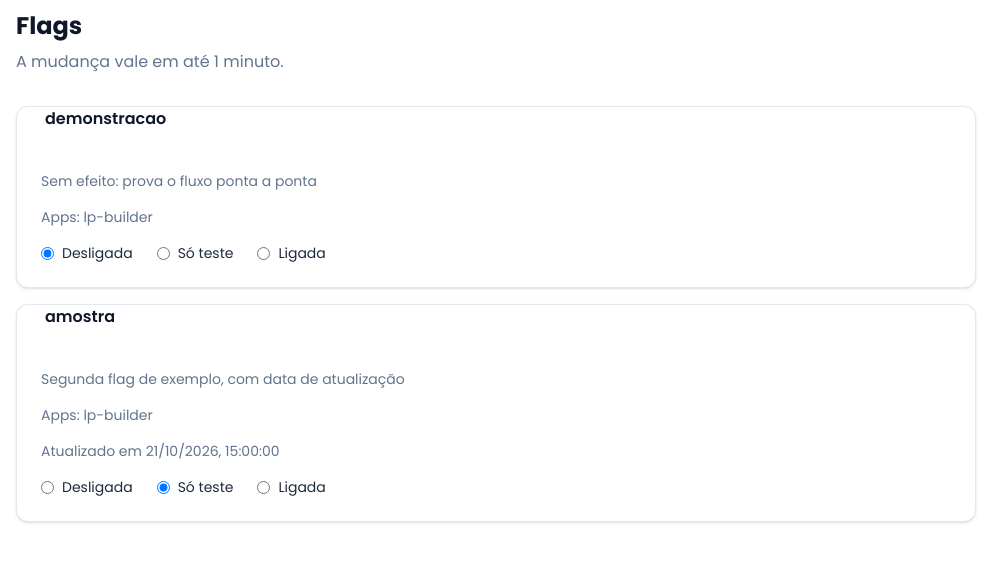
Test case: Página de flags › volta o radio e mostra alerta quando a gravação falha
The image size is (993, 576).
Expected: the element "demonstracao" is shown, left=41, top=107, right=326, bottom=263
Click the radio button labelled "Só teste" below "Sem efeito: prova o fluxo ponta a ponta".
click(163, 253)  # box left=157, top=246, right=170, bottom=260
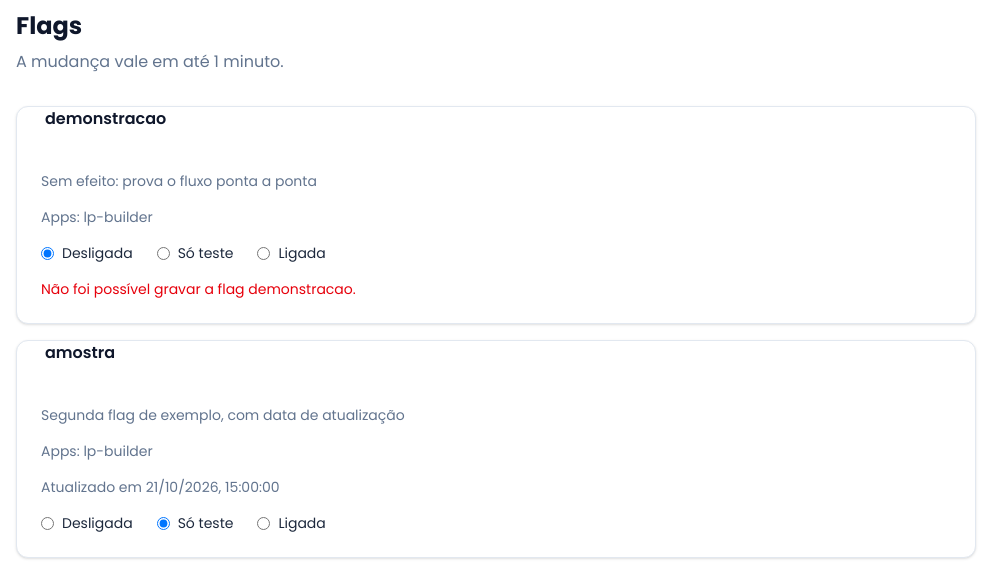
Expected: the radio button labelled "Desligada" below "Sem efeito: prova o fluxo ponta a ponta" is checked, left=41, top=246, right=54, bottom=260
Now the message reads "Não foi possível gravar a flag demonstracao.", box left=41, top=279, right=356, bottom=299
